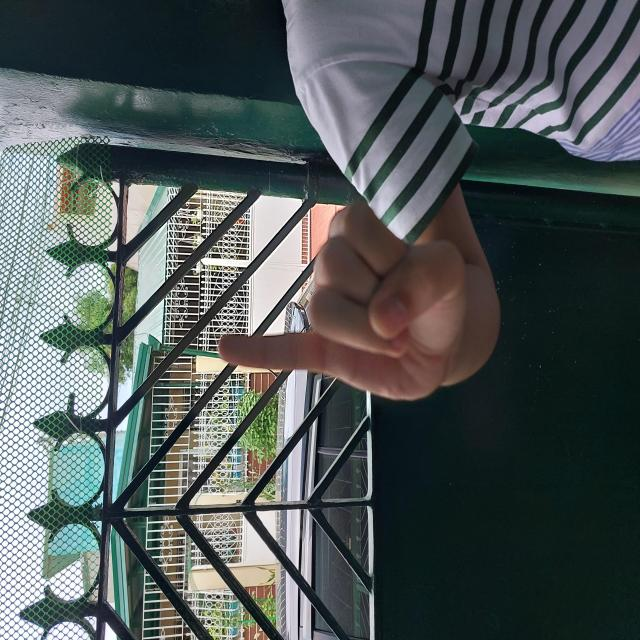I: (237, 215, 440, 474)
